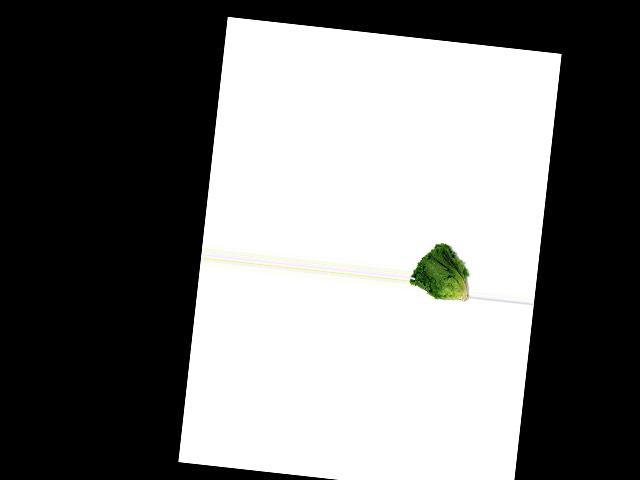lettuce: (407, 235, 476, 307)
